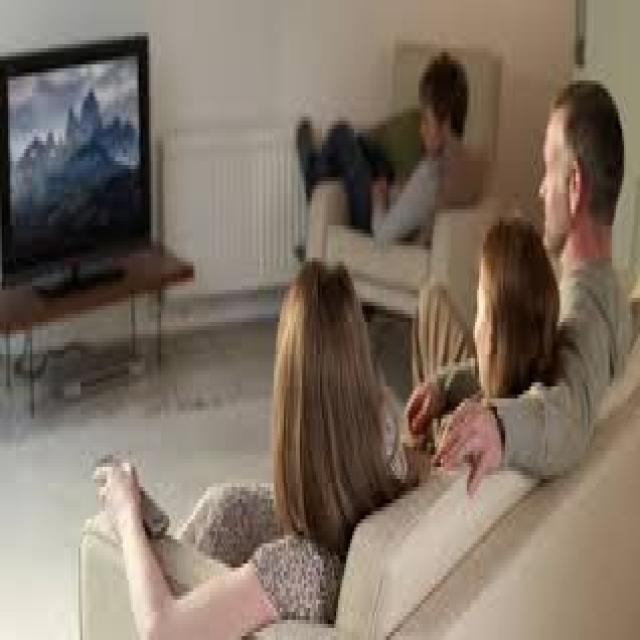tv-person: (1, 30, 378, 640)
